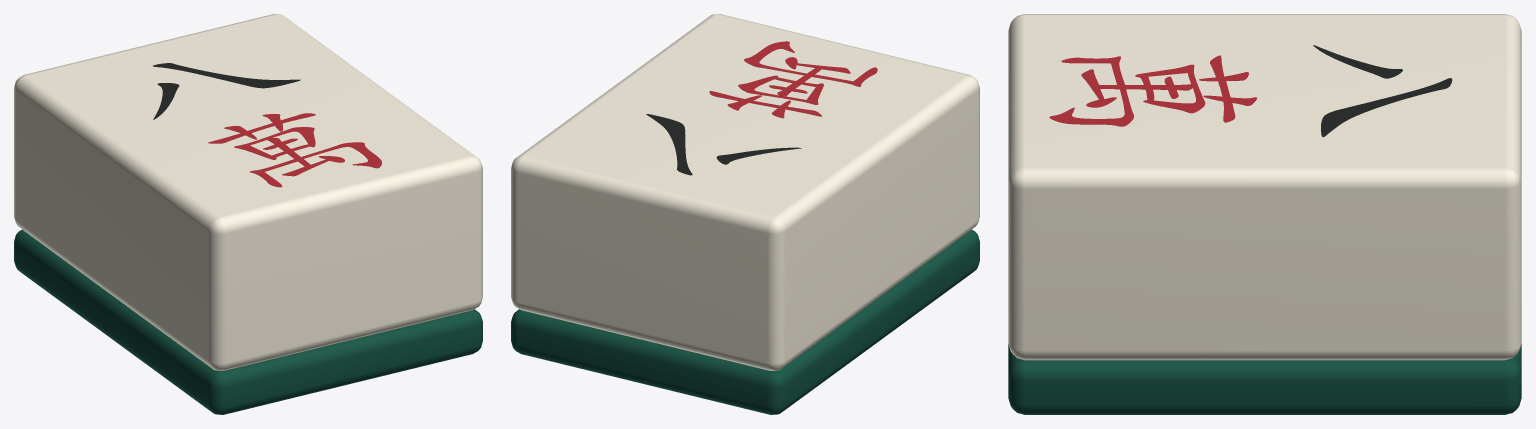
The model's file is wan-08.glb.
The picture shows the model from 3 angles, left to right: view 1: azimuth 30°, elevation 25°; view 2: azimuth 150°, elevation 25°; view 3: azimuth 270°, elevation 25°; orthographic projection. The views are drawn at different scales.
Parts seen in each view (by area): view 1: wan-08_ivory, wan-08_back, wan-08_face_inlays; view 2: wan-08_ivory, wan-08_back, wan-08_face_inlays; view 3: wan-08_ivory, wan-08_back, wan-08_face_inlays.
Boxes of the visible parts, bbox=[...] form: wan-08_ivory: bbox=[14, 14, 482, 370]; wan-08_back: bbox=[14, 229, 482, 414]; wan-08_face_inlays: bbox=[153, 63, 381, 187]; wan-08_ivory: bbox=[511, 14, 979, 370]; wan-08_back: bbox=[511, 229, 979, 414]; wan-08_face_inlays: bbox=[646, 41, 877, 175]; wan-08_ivory: bbox=[1008, 14, 1521, 360]; wan-08_back: bbox=[1008, 344, 1521, 414]; wan-08_face_inlays: bbox=[1049, 45, 1452, 137].
Bounding box in the file's own units: 0.026 × 0.018 × 0.034.
